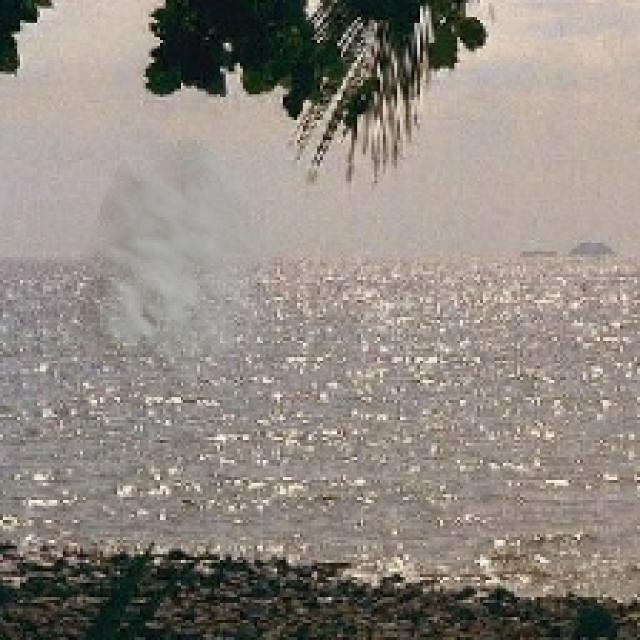smoke: (57, 129, 289, 397)
